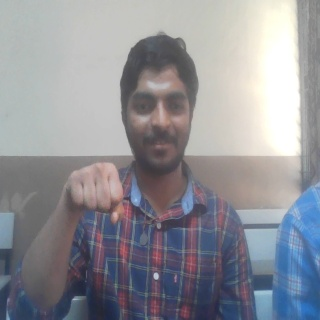Face: (119, 35, 198, 172)
Yes: (64, 160, 127, 223)
